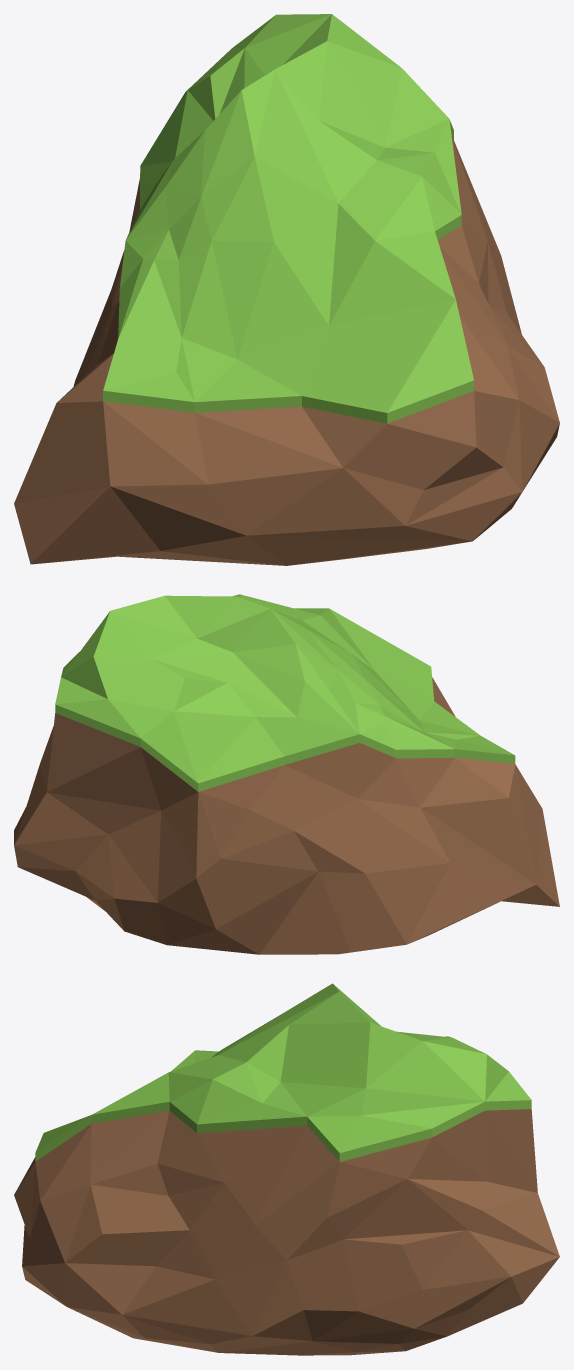
Rendered from rock02_top_grass_dirt.fbx.
3 renders of one model, top to bottom at view 1: azimuth 30°, elevation 25°; view 2: azimuth 150°, elevation 25°; view 3: azimuth 270°, elevation 25°, orthographic. The views are drawn at different scales.
Visible parts, largest first — view 1: rock02_top_grass_dirt_LOD0; view 2: rock02_top_grass_dirt_LOD0; view 3: rock02_top_grass_dirt_LOD0.
Part boxes in pixels (bbox=[...]): rock02_top_grass_dirt_LOD0: bbox=[14, 14, 559, 565]; rock02_top_grass_dirt_LOD0: bbox=[14, 594, 559, 954]; rock02_top_grass_dirt_LOD0: bbox=[14, 983, 559, 1355].
Size of what is drawn, in the model's own units: 201 by 150 by 219.
